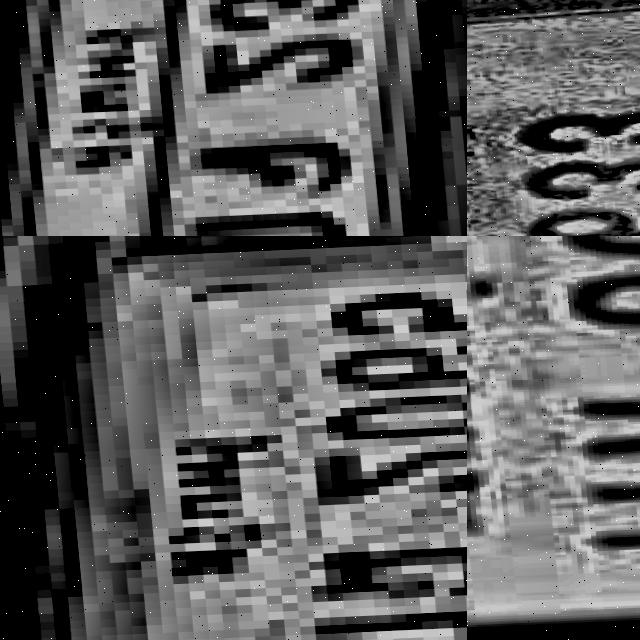license-plate: (0, 236, 467, 640), (0, 0, 467, 236), (467, 236, 640, 640), (467, 0, 640, 236)
